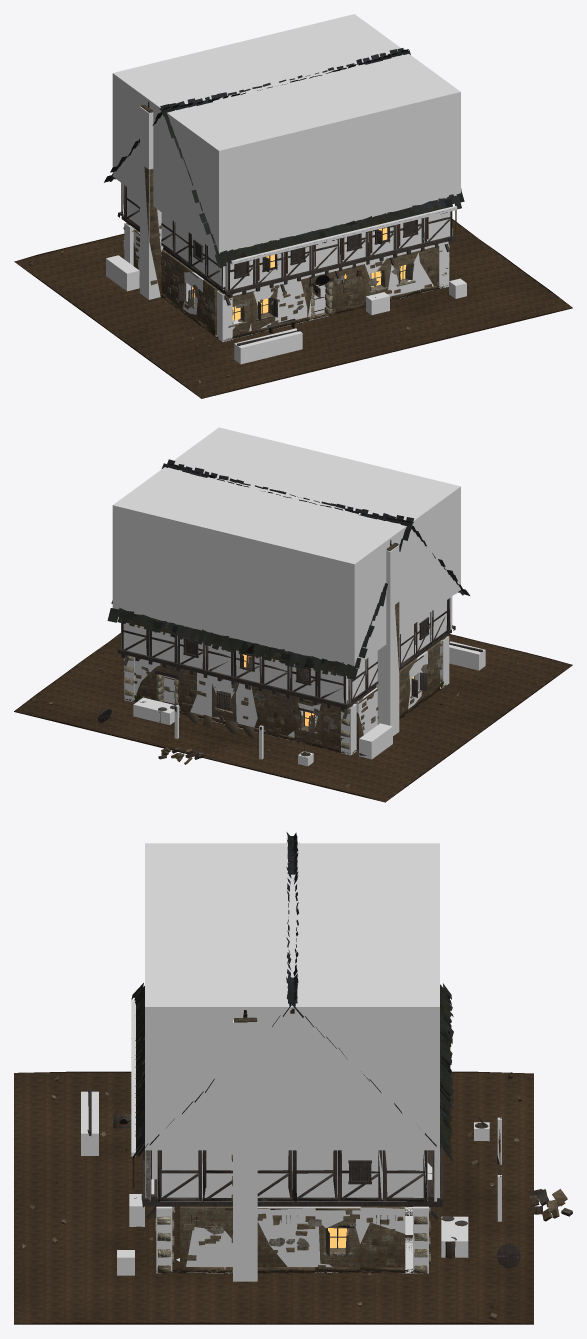
File: bld_inn_salted_kettle_shared_tex.glb
3 renders of one model, top to bottom at view 1: azimuth 30°, elevation 25°; view 2: azimuth 150°, elevation 25°; view 3: azimuth 270°, elevation 25°, orthographic. The views are drawn at different scales.
Parts seen in each view (by area): view 1: col_roof, ground_mud, lite_merge_10, roof_slate_shingles, lite_merge_22, lite_merge_00, col_chimney, lite_merge_01, lite_merge_07, col_trough, col_woodpile, col_wall (+6 smaller); view 2: col_roof, ground_mud, roof_slate_shingles, lite_merge_01, col_chimney, lite_merge_10, lite_merge_18, lite_merge_09, lite_merge_19, yard_props, lite_merge_22, lite_merge_12 (+13 smaller); view 3: col_roof, ground_mud, col_chimney.001, lite_merge_18, roof_slate_shingles, lite_merge_00, lite_merge_19, lite_merge_07, lite_merge_10, yard_props, col_wall.014, col_wall.043 (+16 smaller).
Boxes of the visible parts, box(x1,y1,x2,y2) form: col_roof: box(112, 14, 460, 253); ground_mud: box(14, 219, 572, 398); lite_merge_10: box(117, 212, 455, 321); roof_slate_shingles: box(104, 48, 461, 267); lite_merge_22: box(182, 264, 335, 338); lite_merge_00: box(29, 237, 477, 383); col_chimney: box(140, 106, 163, 299); lite_merge_01: box(126, 104, 183, 311); lite_merge_07: box(109, 177, 452, 286); col_trough: box(234, 328, 302, 364); col_woodpile: box(106, 255, 139, 291); col_wall: box(279, 280, 307, 327); col_roof: box(112, 427, 460, 666); ground_mud: box(14, 633, 572, 802); roof_slate_shingles: box(107, 459, 469, 679); lite_merge_01: box(238, 543, 407, 752); col_chimney: box(376, 545, 399, 735); lite_merge_10: box(117, 598, 455, 719); lite_merge_18: box(134, 659, 236, 723); lite_merge_09: box(233, 638, 378, 726); lite_merge_19: box(121, 620, 233, 692); yard_props: box(97, 643, 482, 764); lite_merge_22: box(406, 636, 447, 712); lite_merge_12: box(126, 557, 464, 675); col_roof: box(145, 843, 439, 1150); ground_mud: box(14, 1071, 533, 1324); col_chimney.001: box(233, 1020, 257, 1281); lite_merge_18: box(270, 1206, 405, 1273); roof_slate_shingles: box(131, 832, 453, 1161); lite_merge_00: box(21, 1017, 522, 1320); lite_merge_19: box(292, 1069, 440, 1248); lite_merge_07: box(134, 985, 451, 1201); lite_merge_10: box(141, 1146, 443, 1219); yard_props: box(87, 1089, 572, 1268); col_wall.014: box(270, 1206, 314, 1266); col_wall.043: box(382, 1150, 427, 1201).
Bounding box in the file's own units: 26.4 × 14 × 24.83.
Materials: 23 (17 with a texture image).
